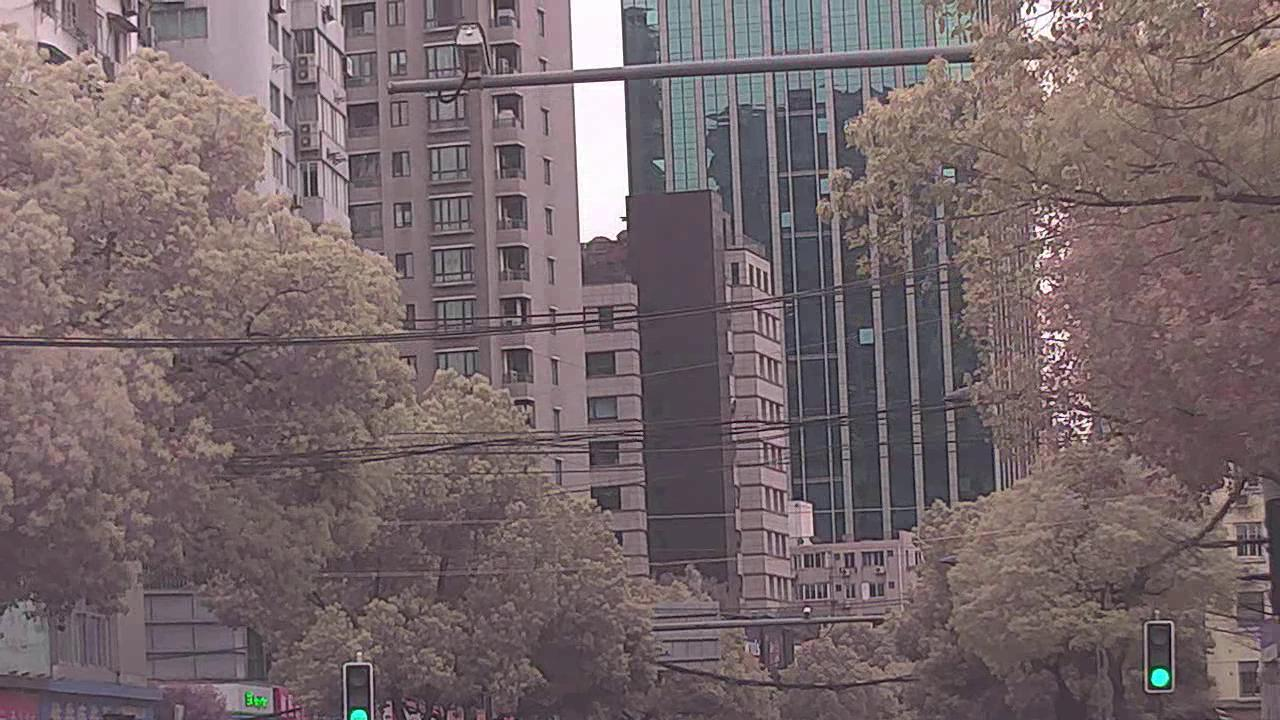traffic_light: (1148, 624, 1174, 694), (344, 662, 370, 720)
